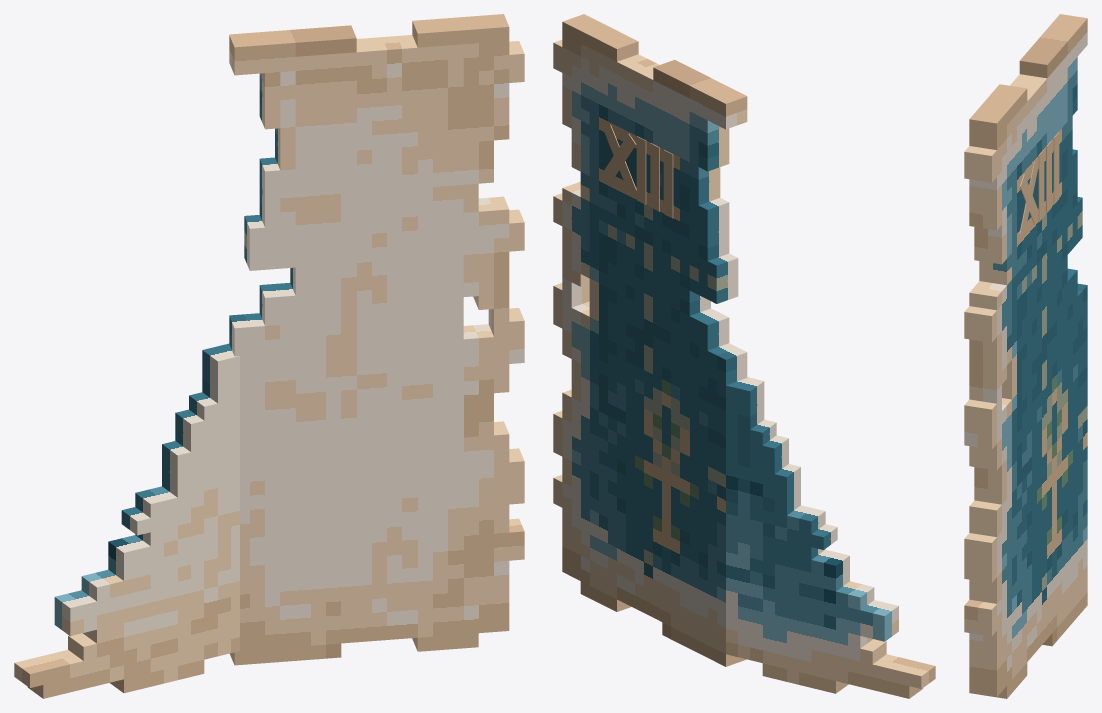
File: lost_page_05M_XIII.gltf
3 views of the same model, side by side, from view 1: azimuth 30°, elevation 25°; view 2: azimuth 150°, elevation 25°; view 3: azimuth 270°, elevation 25° (orthographic). The views are drawn at different scales.
Parts seen in each view (by area): view 1: MapRight$$(2)-Local, MapCenter$$(2)-Local; view 2: MapRight$$(2)-Local, MapCenter$$(2)-Local, I-Local, III-Local, V01-Local, II-Local; view 3: MapRight$$(2)-Local, III-Local, I-Local, II-Local, V01-Local, V02-Local.
Boxes of the visible parts, left/top/right/bottom form: MapRight$$(2)-Local: left=229, top=14, right=524, bottom=665; MapCenter$$(2)-Local: left=14, top=343, right=239, bottom=698; MapRight$$(2)-Local: left=553, top=14, right=747, bottom=666; MapCenter$$(2)-Local: left=726, top=377, right=935, bottom=698; I-Local: left=636, top=136, right=646, bottom=204; III-Local: left=663, top=150, right=673, bottom=218; V01-Local: left=603, top=124, right=636, bottom=193; II-Local: left=650, top=143, right=659, bottom=211; MapRight$$(2)-Local: left=964, top=14, right=1087, bottom=698; III-Local: left=1053, top=132, right=1059, bottom=204; I-Local: left=1038, top=149, right=1044, bottom=221; II-Local: left=1046, top=141, right=1051, bottom=213; V01-Local: left=1020, top=174, right=1038, bottom=224; V02-Local: left=1019, top=162, right=1038, bottom=236.
Bounding box in the file's own units: 33.85 × 44 × 8.38.
Materials: 7 (7 with a texture image).
